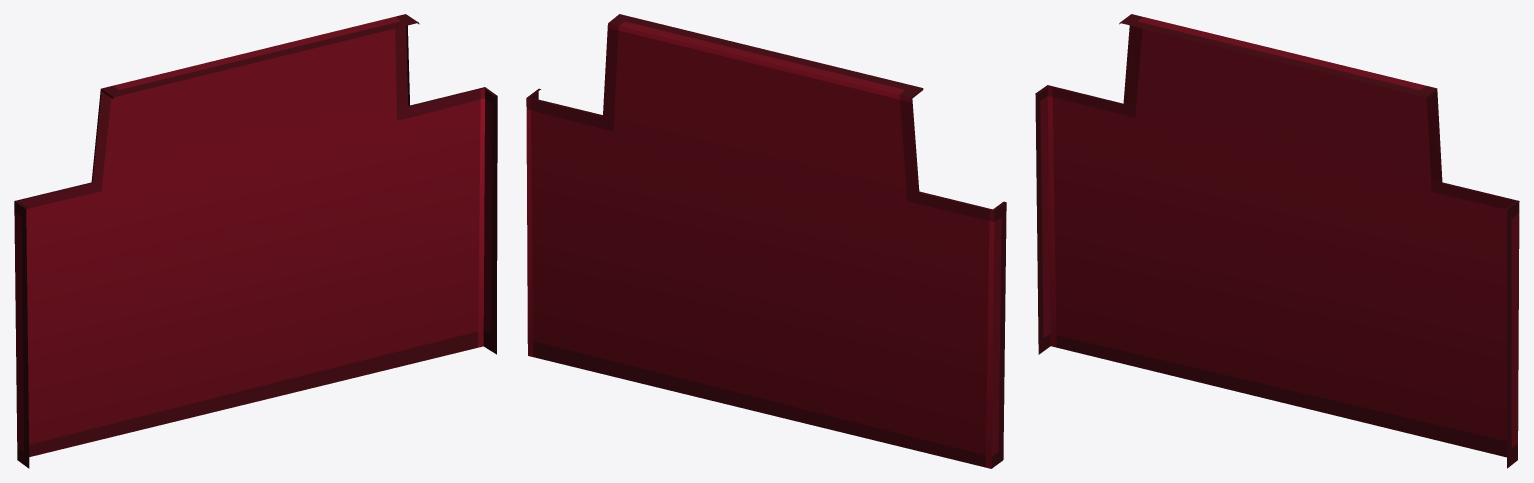
File: RDMARedCarpet.fbx
3 renders of one model, left to right at view 1: azimuth 30°, elevation 25°; view 2: azimuth 150°, elevation 25°; view 3: azimuth 330°, elevation 25°, orthographic.
Parts seen in each view (by area): view 1: RDMARedCarpet; view 2: RDMARedCarpet; view 3: RDMARedCarpet.
Part boxes in pixels (x1,y1,x2,y2): RDMARedCarpet: (14,14,497,468); RDMARedCarpet: (526,14,1006,468); RDMARedCarpet: (1035,14,1519,468).
Bounding box in the file's own units: 429 × 307 × 21.79.
